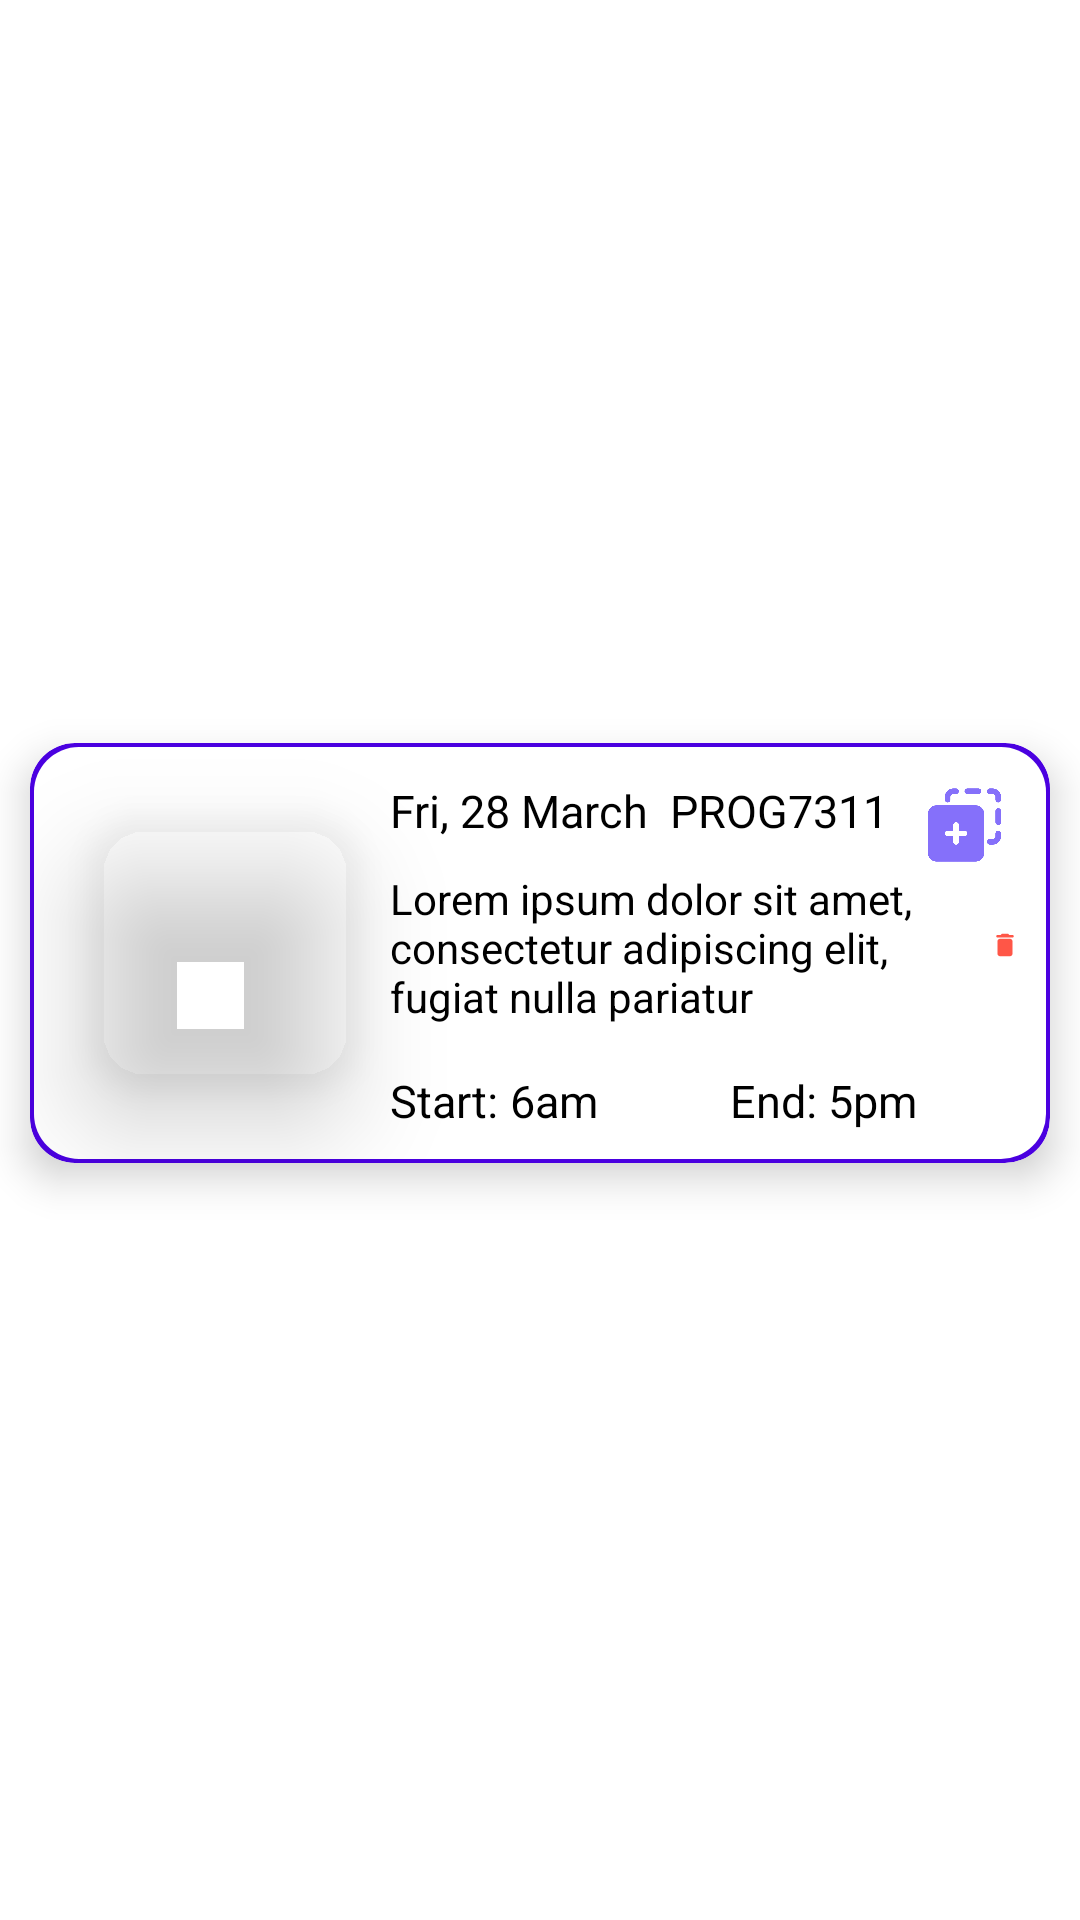

Locate icon controls on the screen. Image size 1080 x 1920, boxes as (x1, y1, x2, y2).
delete: (996, 933, 1014, 957)
duplicate: (928, 788, 1001, 862)
